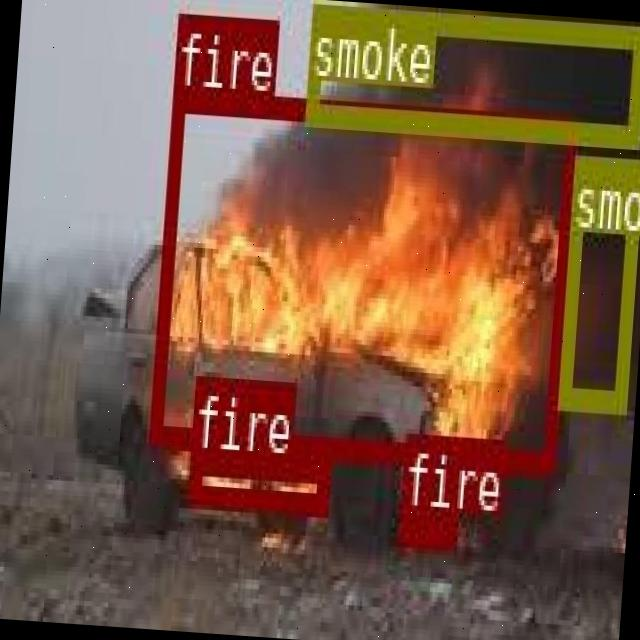fire: (148, 87, 575, 470), (187, 450, 327, 510), (398, 508, 456, 545)
smoke: (304, 1, 640, 142), (558, 152, 640, 410)
